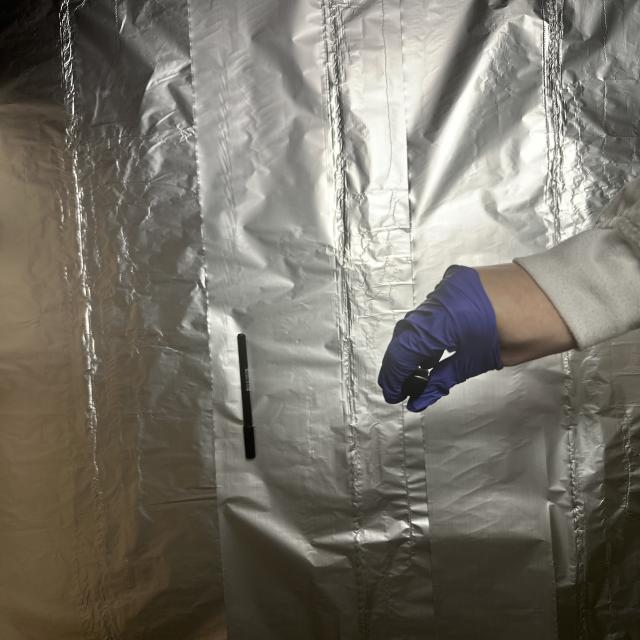glove_partial: (372, 261, 580, 416)
